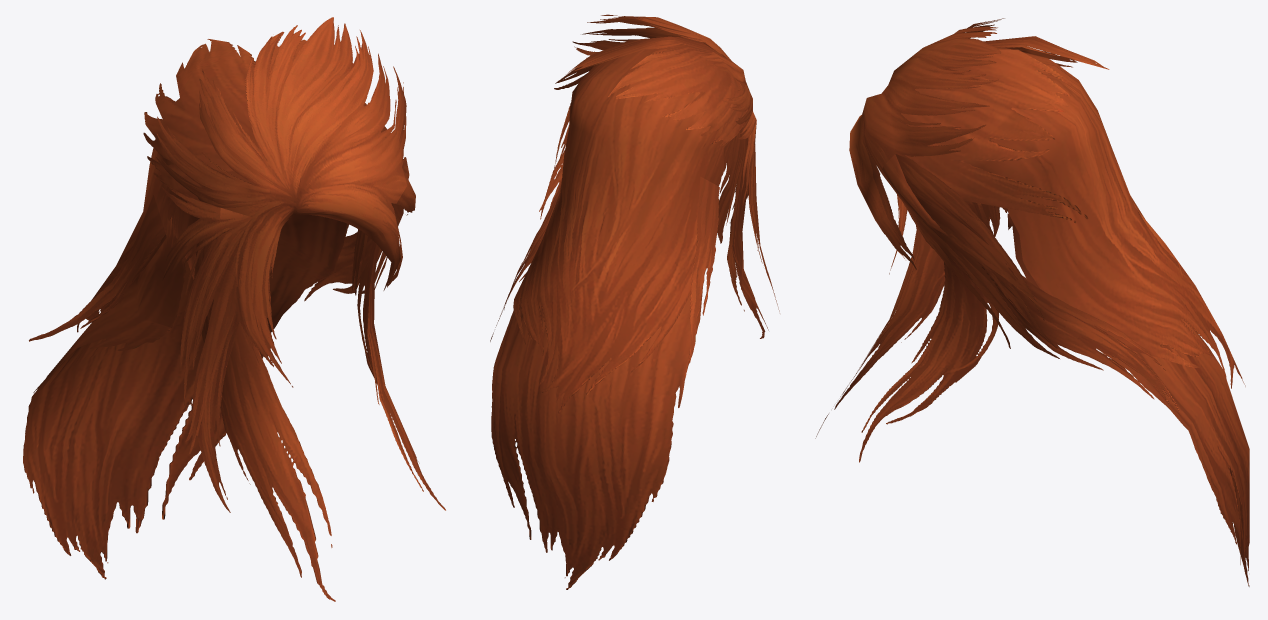
The model's file is Ichigo Hair.fbx.
The picture shows the model from 3 angles, left to right: view 1: azimuth 30°, elevation 25°; view 2: azimuth 150°, elevation 25°; view 3: azimuth 270°, elevation 25°; orthographic projection. The views are drawn at different scales.
Visible parts, largest first — view 1: Hair; view 2: Hair; view 3: Hair.
Part boxes in pixels (<box>): Hair: <box>23,17,445,601</box>; Hair: <box>490,14,779,589</box>; Hair: <box>815,18,1249,586</box>.
Size of the model in its own units: 22.72 by 52.05 by 34.89.
